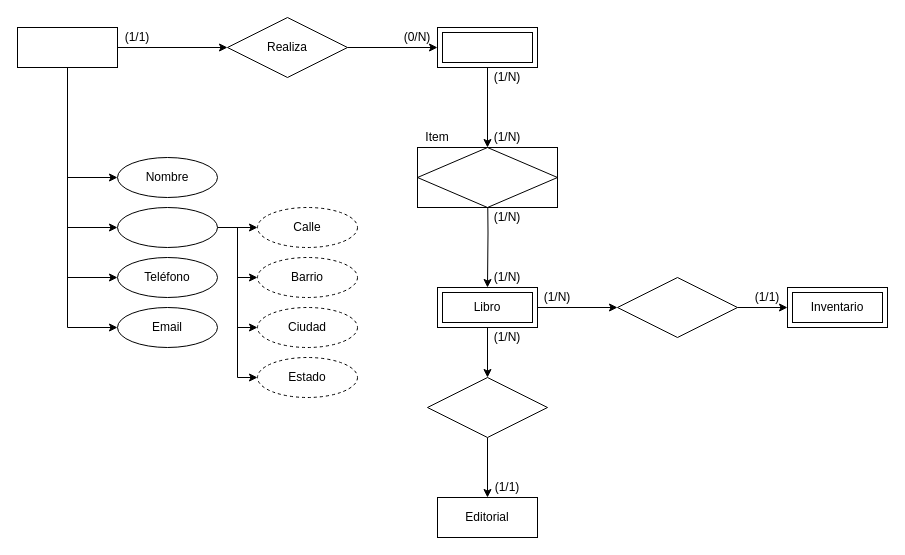
The diagram is 905 pixels wide and 555 high, and some of its shapes have lost their labels. Each missing label, with the centre of its shape:
"Associative Entity" belongs at point 487,177.
"Cliente" belongs at point 67,47.
"Dirección" belongs at point 167,227.
"Existe" belongs at point 677,307.
"Pedido" belongs at point 487,47.
"Pertenece" belongs at point 487,407.
